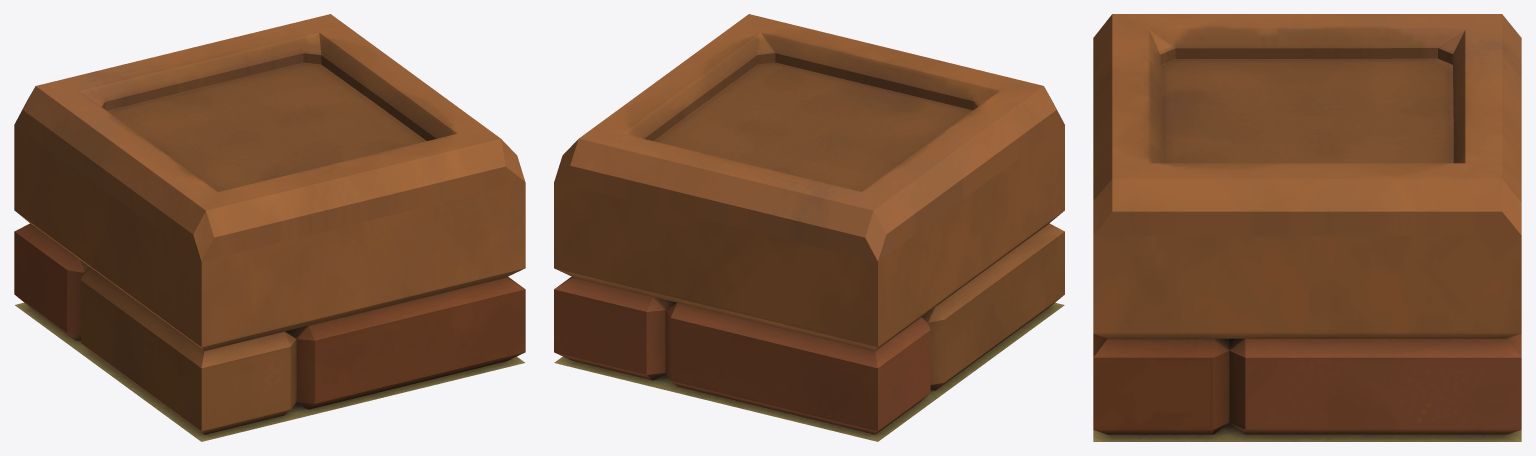
File: +-Mur.FBX
3 renders of one model, left to right at view 1: azimuth 30°, elevation 25°; view 2: azimuth 150°, elevation 25°; view 3: azimuth 270°, elevation 25°, orthographic. The views are drawn at different scales.
Parts seen in each view (by area): view 1: +-Mur; view 2: +-Mur; view 3: +-Mur.
Boxes of the visible parts, x1,y1,x2,y2 form: +-Mur: [14, 14, 525, 441]; +-Mur: [554, 14, 1064, 441]; +-Mur: [1093, 14, 1521, 441].
Size of the model in its own units: 2 by 1.31 by 2.
